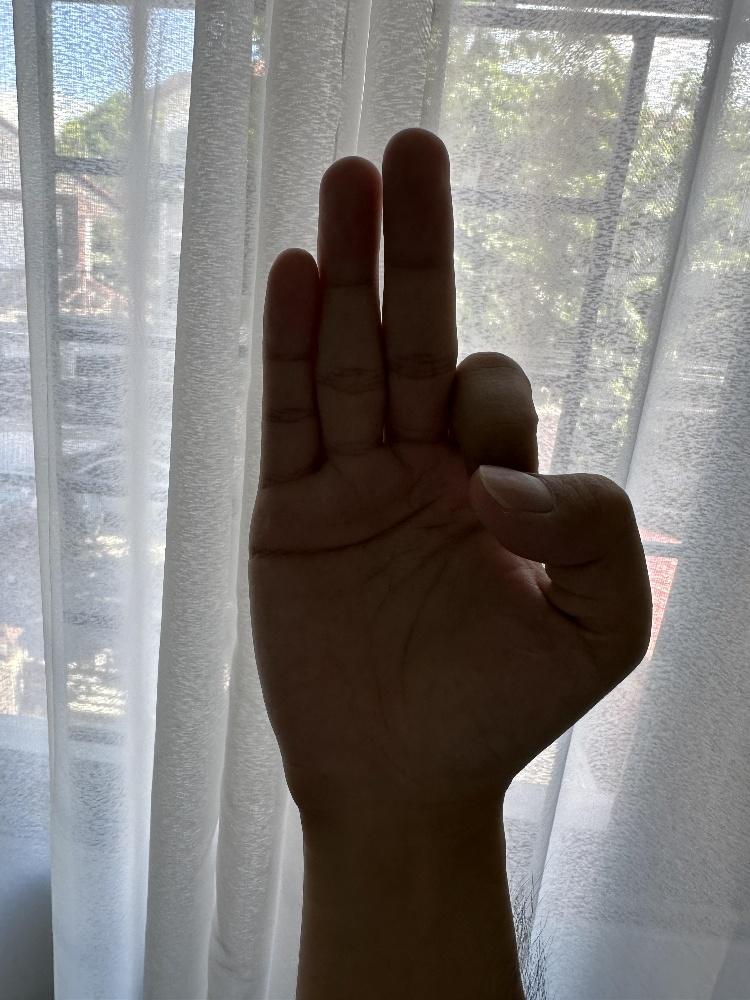f: (243, 123, 656, 811)
